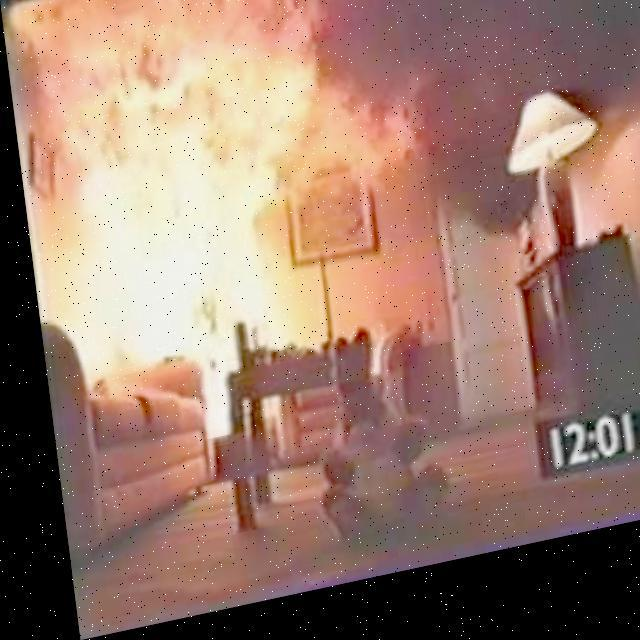Fire: (17, 0, 353, 450)
